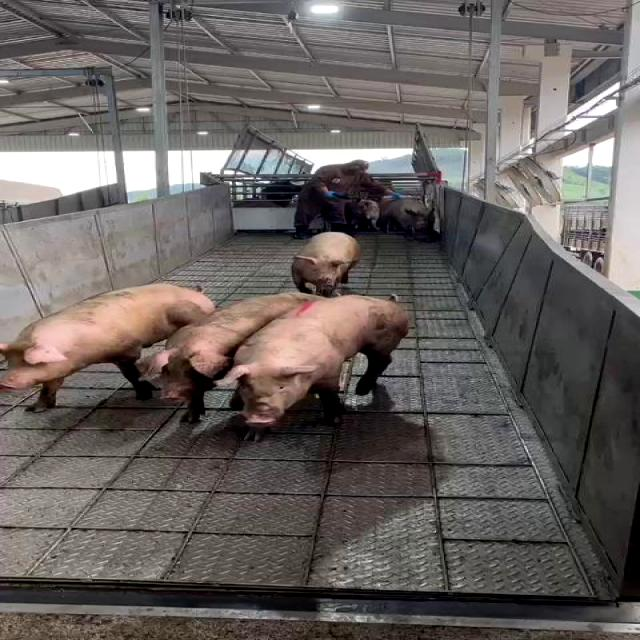pig: (0, 284, 215, 412), (225, 295, 410, 439), (140, 292, 323, 422), (291, 231, 362, 297)
